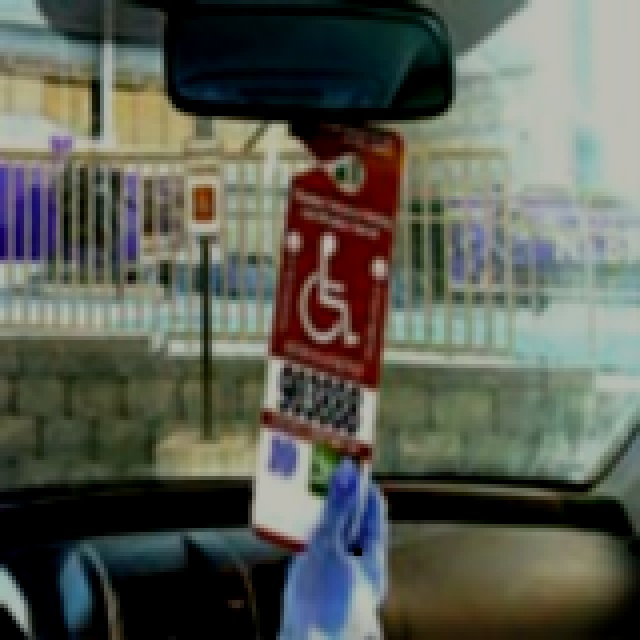ISA: (298, 226, 362, 349), (191, 188, 213, 222)
